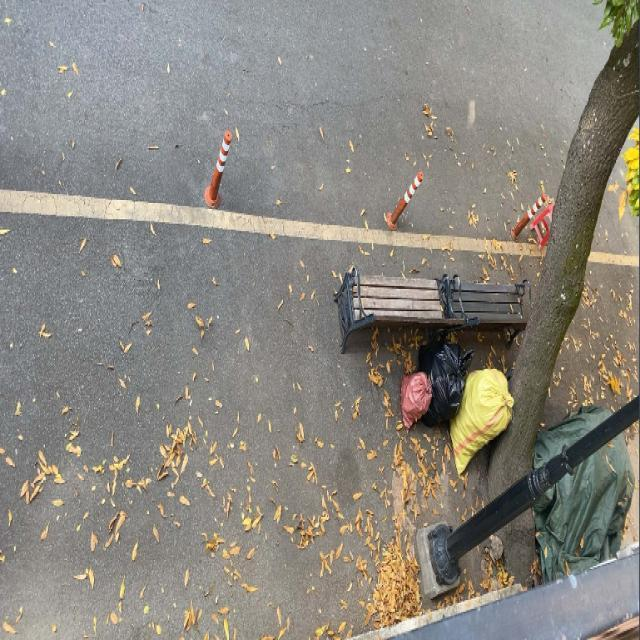Trashbag: (422, 344, 466, 422)
